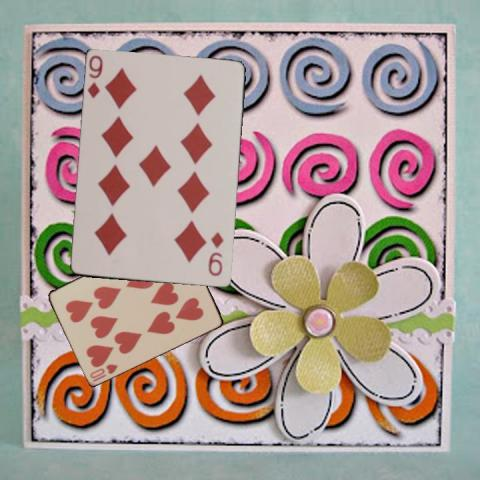10h: (87, 361, 119, 383)
9d: (85, 53, 105, 100), (206, 229, 225, 278)
